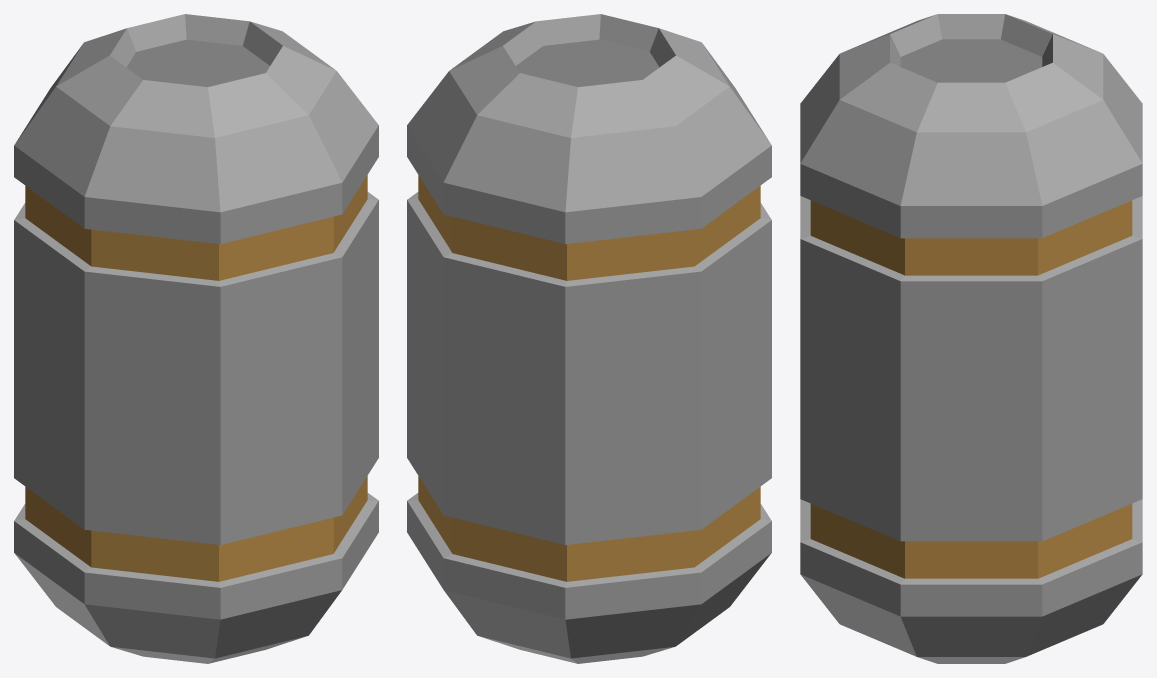
The model's file is Props_Vessel_Short.gltf.
3 renders of one model, left to right at view 1: azimuth 30°, elevation 25°; view 2: azimuth 150°, elevation 25°; view 3: azimuth 270°, elevation 25°, orthographic.
Visible parts, largest first — view 1: Props_Vessel_Short; view 2: Props_Vessel_Short; view 3: Props_Vessel_Short.
Part boxes in pixels (box(x1,y1,x2,y2)): Props_Vessel_Short: box(14, 14, 378, 663); Props_Vessel_Short: box(407, 14, 771, 663); Props_Vessel_Short: box(800, 14, 1142, 663).
Size of the model in its own units: 0.2873 by 0.538 by 0.2873.
